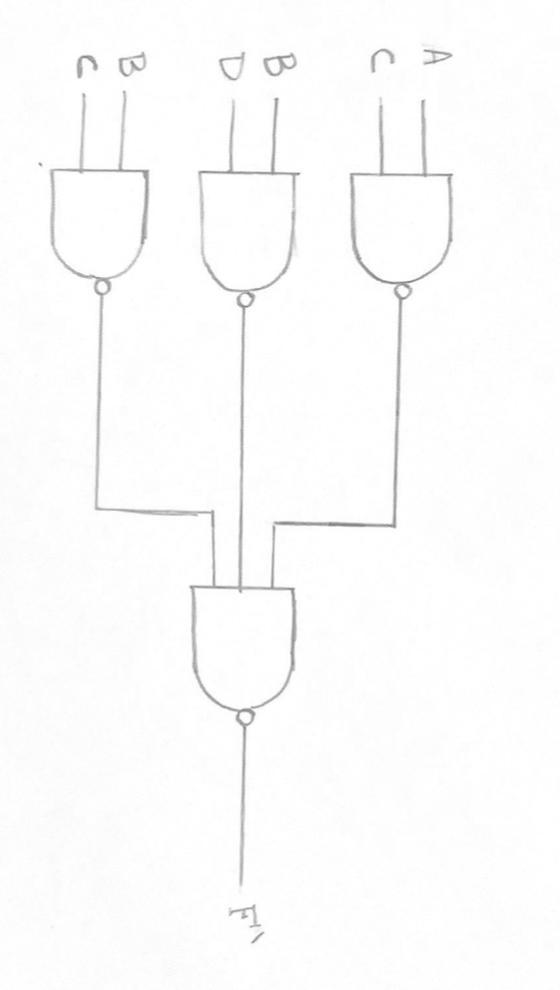NAND: (164, 564, 335, 741), (336, 160, 492, 318), (36, 158, 175, 309), (191, 156, 310, 316)
